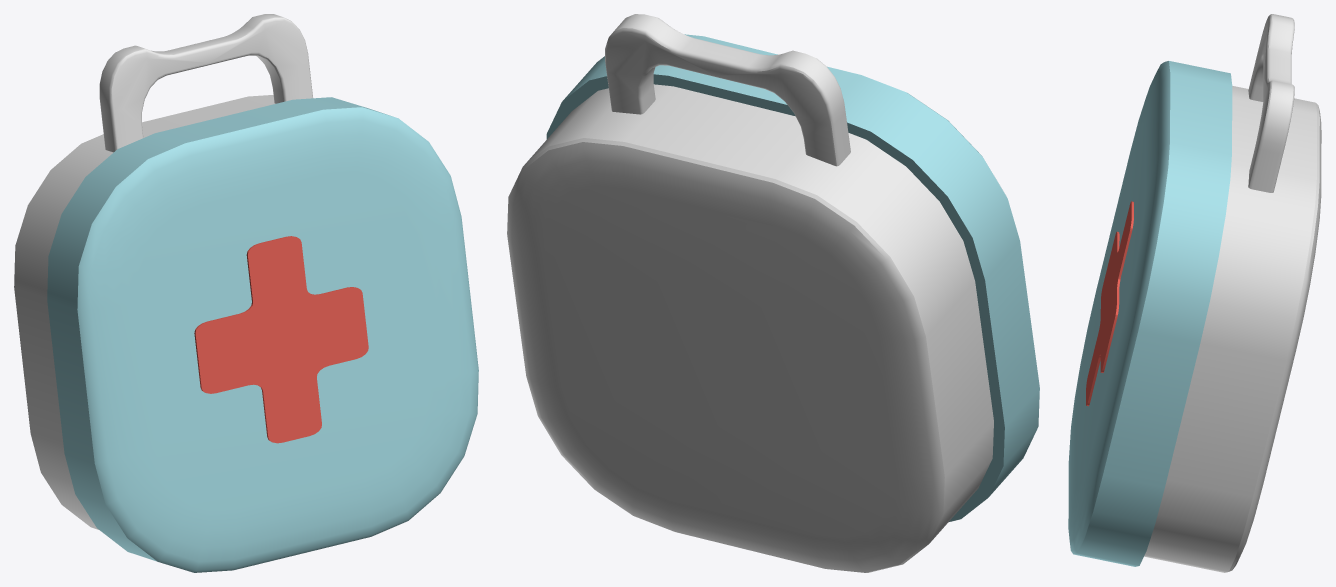
Rendered from health.glb.
The picture shows the model from 3 angles, left to right: view 1: azimuth 30°, elevation 25°; view 2: azimuth 150°, elevation 25°; view 3: azimuth 270°, elevation 25°; orthographic projection. The views are drawn at different scales.
Parts seen in each view (by area): view 1: Cube.003; view 2: Cube.003; view 3: Cube.003.
Part boxes in pixels (x1,y1,x2,y2): Cube.003: [14, 14, 478, 572]; Cube.003: [507, 14, 1039, 572]; Cube.003: [1068, 14, 1321, 572].
Bounding box in the file's own units: 1.45 × 1.69 × 0.8111.
